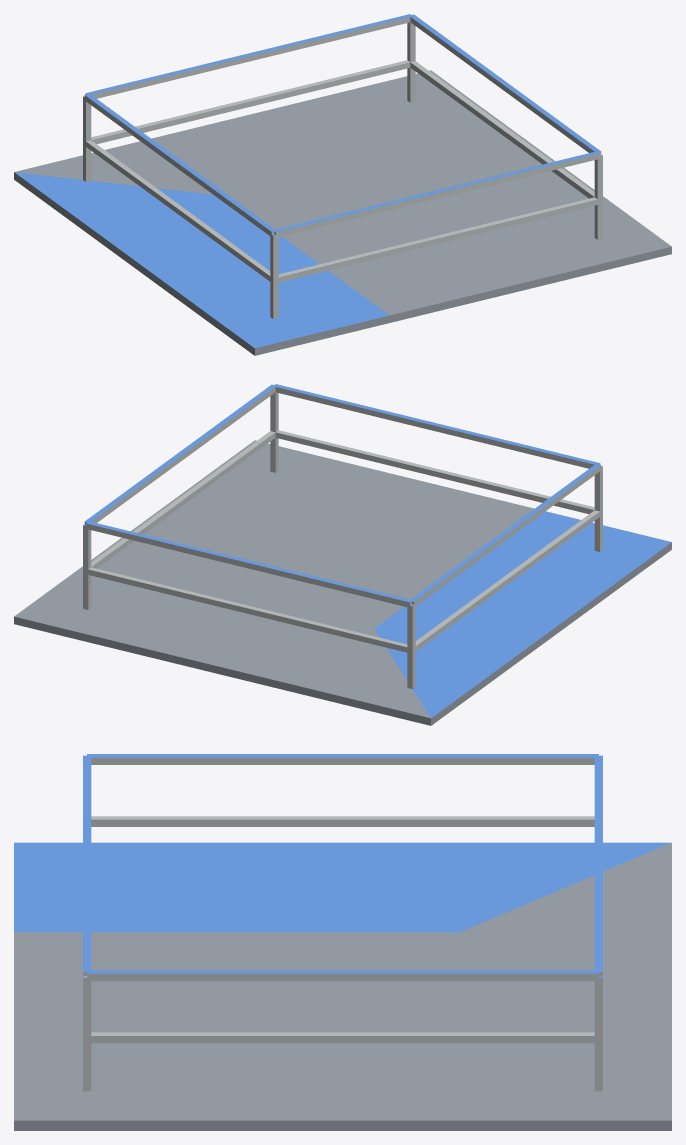
Rendered from veyran_construction_center_scaffolding.glb.
The picture shows the model from 3 angles, top to bottom: view 1: azimuth 30°, elevation 25°; view 2: azimuth 150°, elevation 25°; view 3: azimuth 270°, elevation 25°; orthographic projection. The views are drawn at different scales.
Parts seen in each view (by area): view 1: hull; view 2: hull; view 3: hull.
Boxes of the visible parts, x1,y1,x2,y2 form: hull: (14,14,671,355); hull: (14,384,671,725); hull: (14,754,671,1130).
Size of the model in its own units: 14.4 by 3.09 by 14.4.
